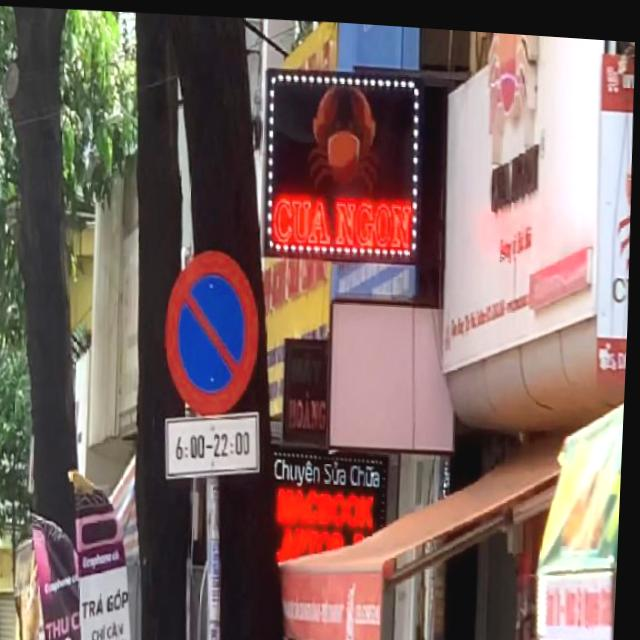Cam do xe: (163, 244, 266, 415)
